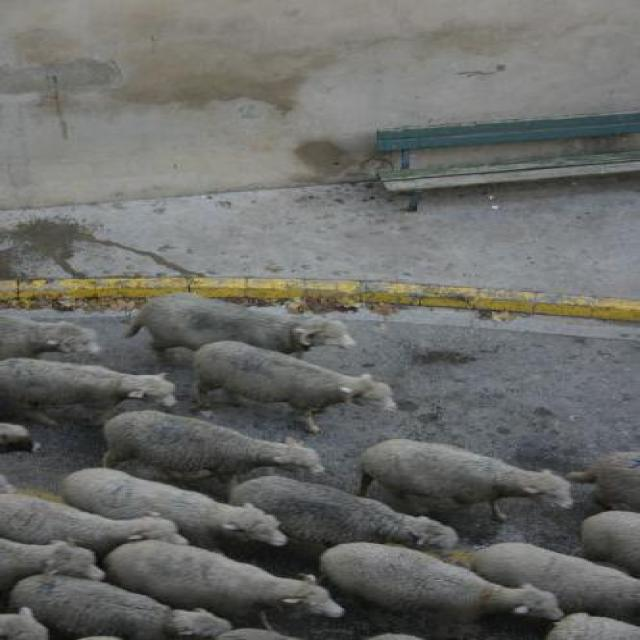Sheep: (10, 477, 632, 639), (102, 410, 329, 503), (60, 466, 288, 557), (350, 434, 580, 523), (190, 342, 404, 435), (96, 542, 346, 620), (321, 544, 569, 621), (226, 476, 454, 558), (118, 290, 362, 362), (2, 576, 234, 639), (473, 540, 638, 625), (0, 357, 181, 430), (2, 494, 190, 553), (0, 311, 102, 360)
